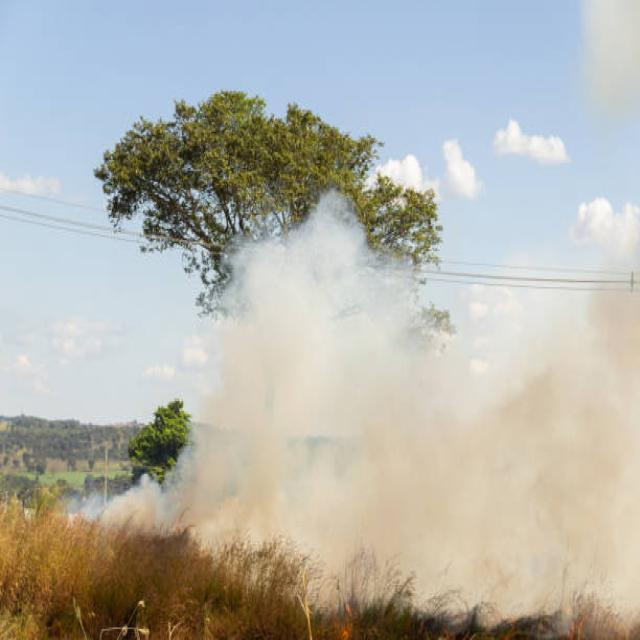Smoke: (95, 185, 640, 626)
